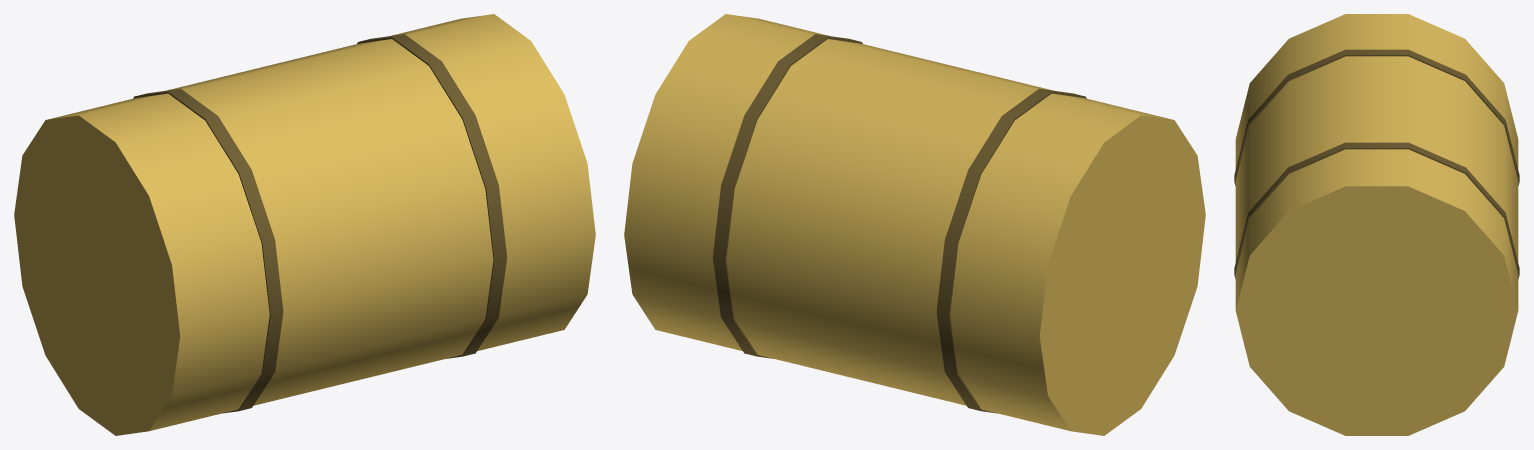
The model's file is hay-bale.glb.
3 views of the same model, side by side, from view 1: azimuth 30°, elevation 25°; view 2: azimuth 150°, elevation 25°; view 3: azimuth 270°, elevation 25° (orthographic). The views are drawn at different scales.
Visible parts, largest first — view 1: hay-bale; view 2: hay-bale; view 3: hay-bale.
Boxes of the visible parts, x1,y1,x2,y2 form: hay-bale: [14, 14, 595, 435]; hay-bale: [624, 14, 1205, 435]; hay-bale: [1234, 14, 1519, 435].
Size of the model in its own units: 1.3 by 0.8872 by 0.91.
